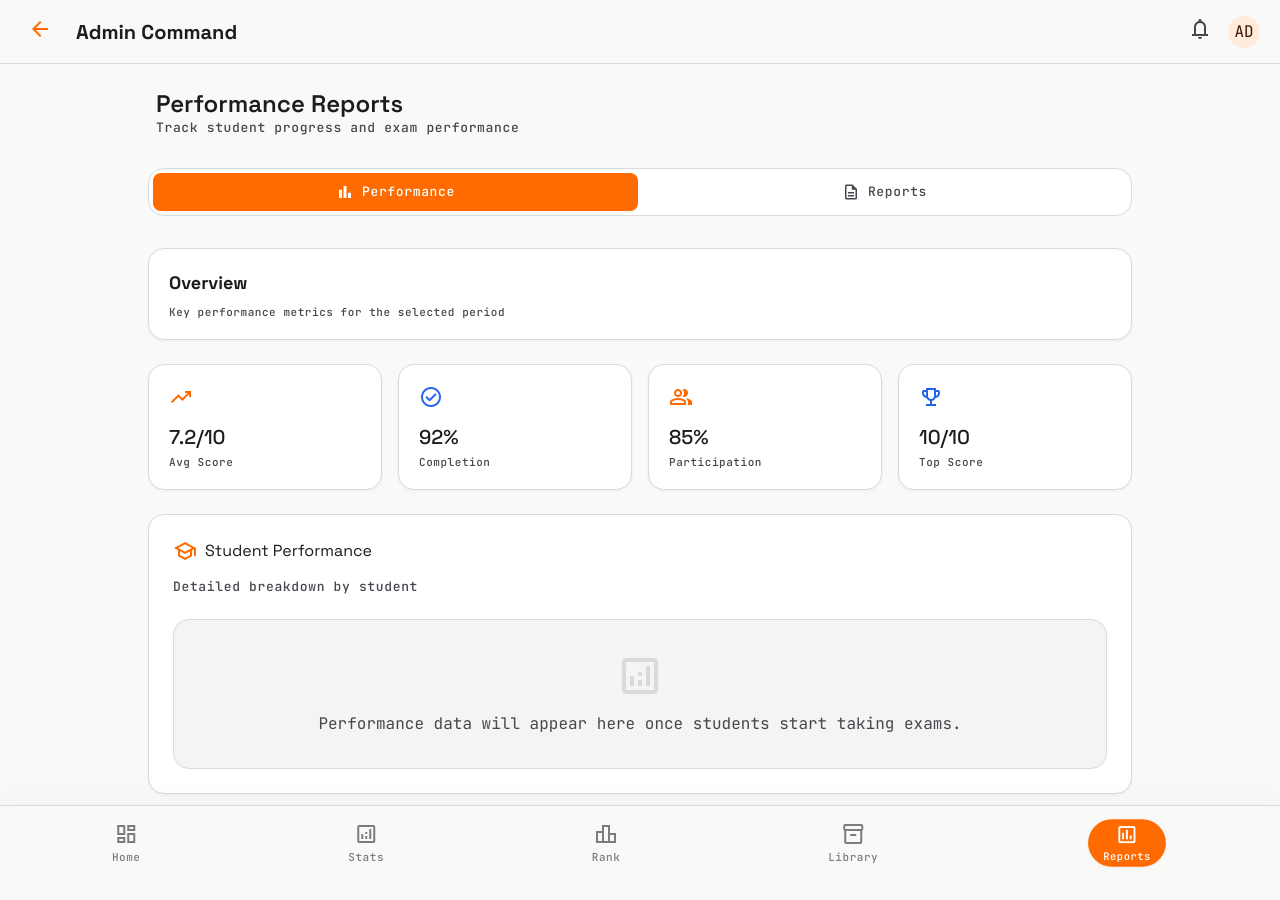
Test: TeacherReports › shows loading skeletons during load
This screenshot has width=1280, height=900.
Click the 1st button "Reports" at (884, 192), box [642,173,1127,211]
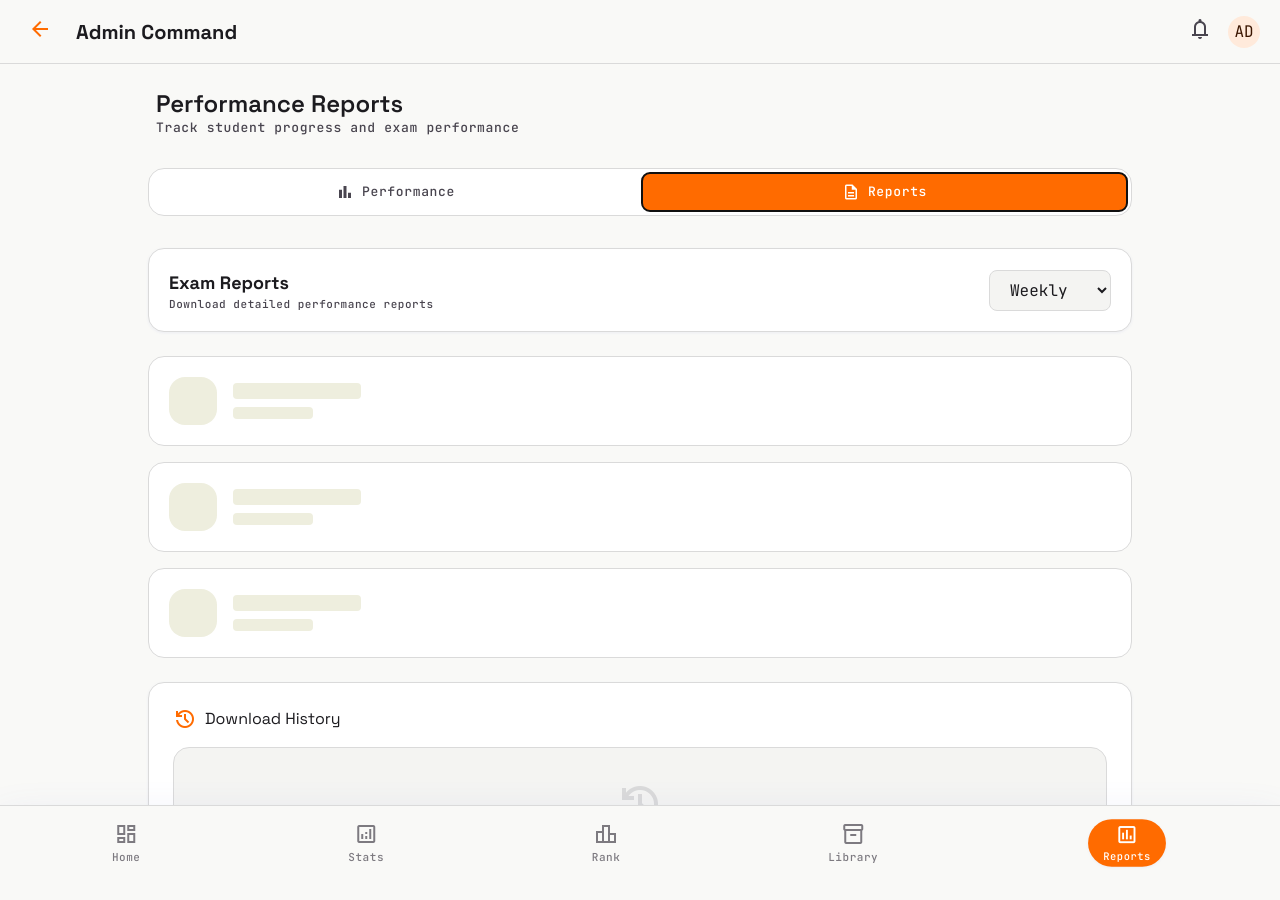
expect the 1st element with class "animate-pulse" is shown: met, box [148,356,1132,446]
